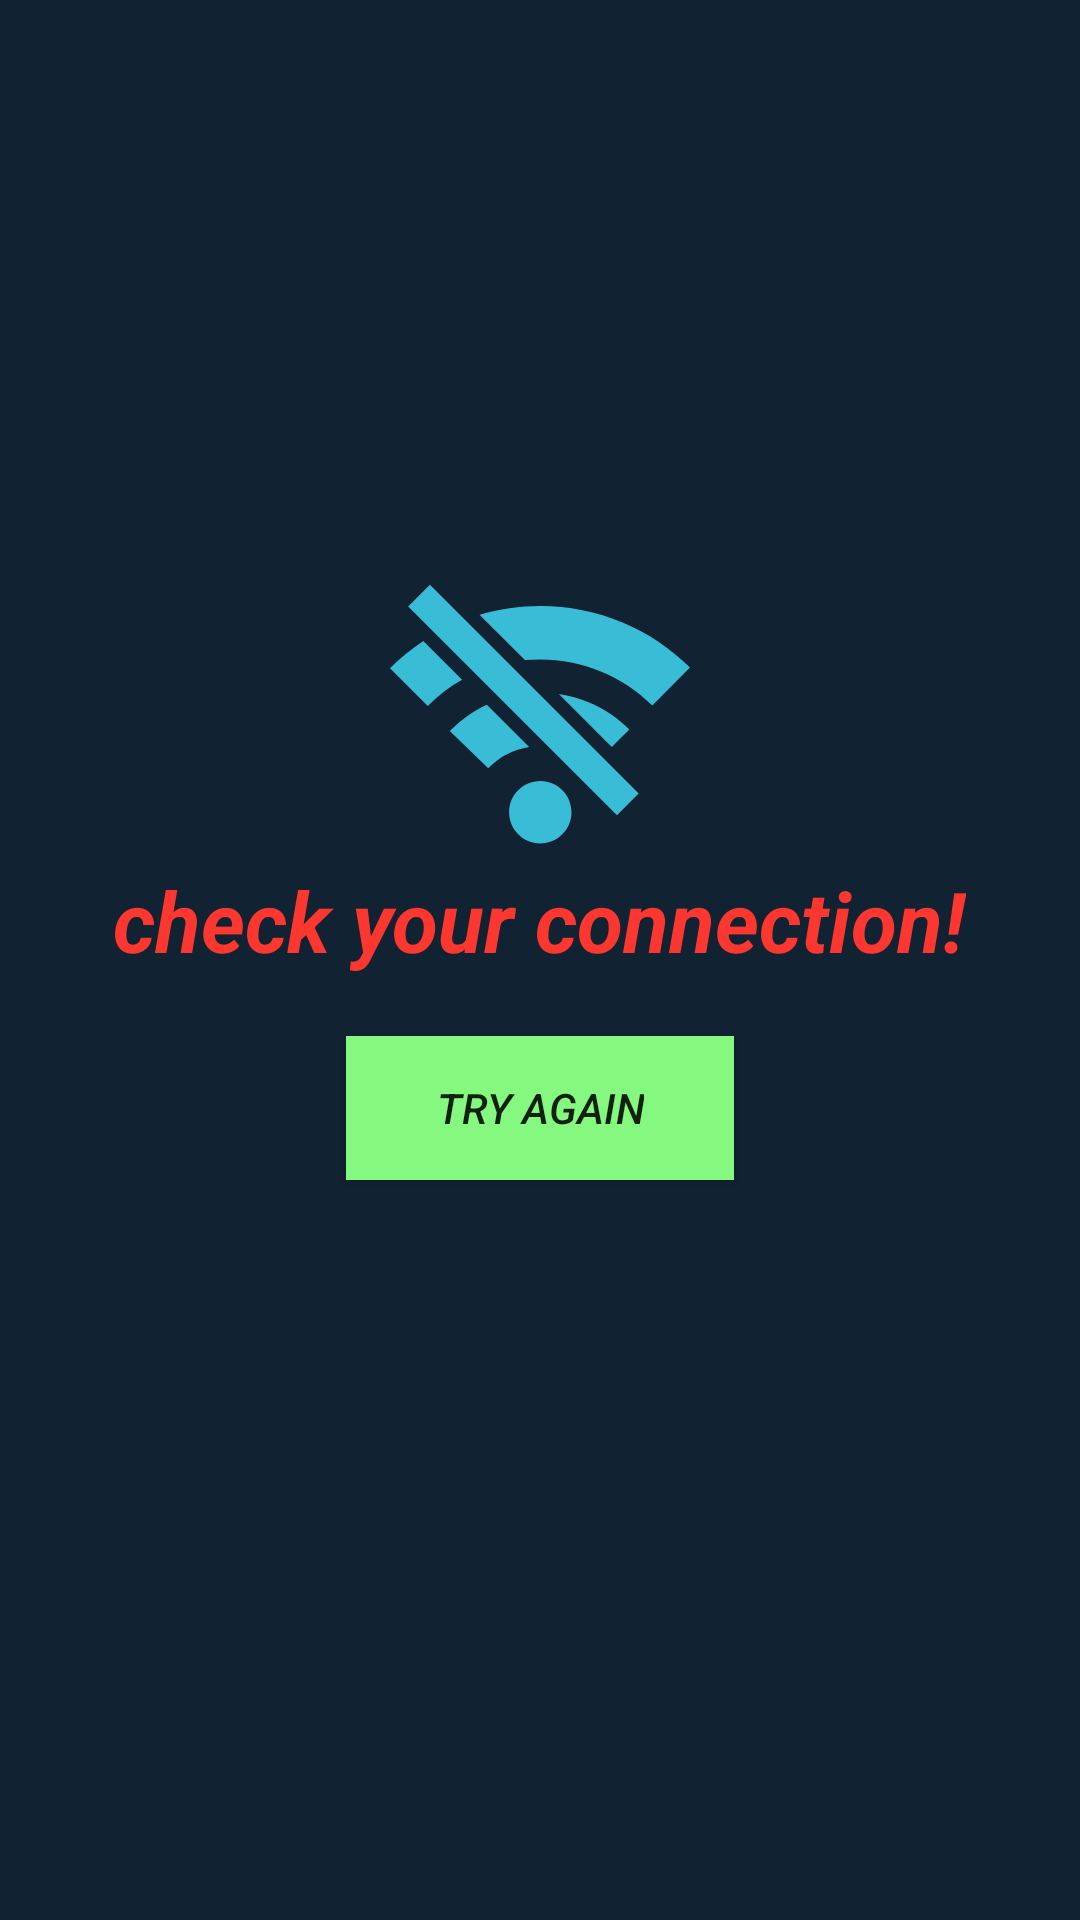

Icons on this 1080w x 1920h Android screen, each with its box as (x1,y1,x2,y2):
wifi: (390,585,690,844)
